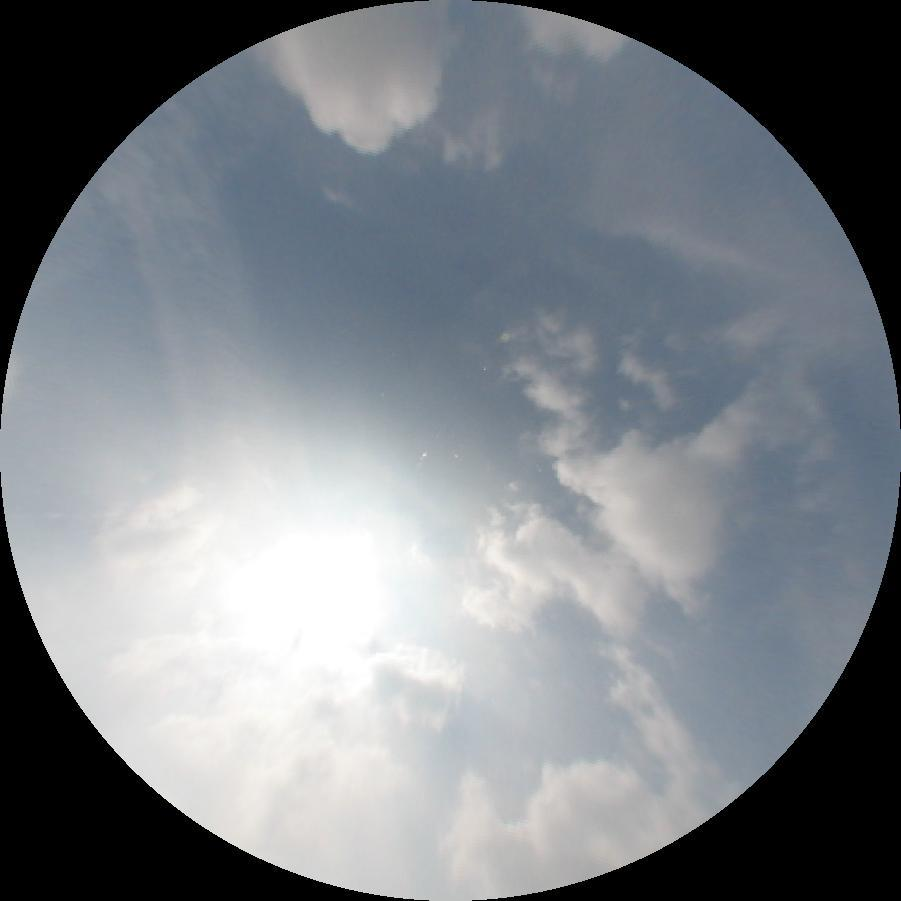sun: (226, 531, 381, 650)
